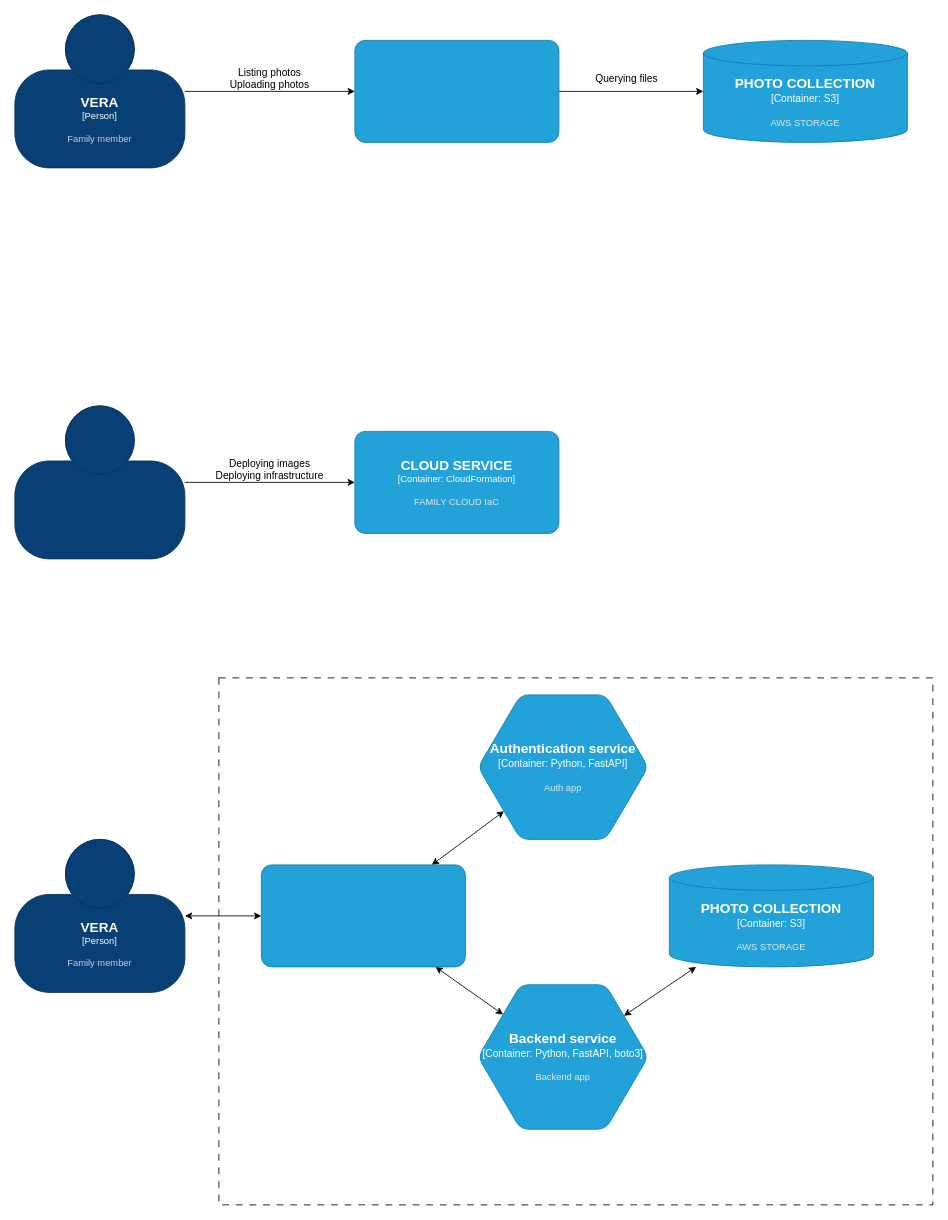
Image size: 948x1220. Some labels were removed from this diagram. The box of each missing label's shape, as (x1, y1, x2, y2) in pixels:
ALEKSANDR [DEVELOPER] Family member: (14, 405, 185, 559)
CLOUD SERVICE [Container: STREAMLIT APPLICATION] FAMILY CLOUD STORAGE: (354, 40, 559, 142)
Frontend service [Container: Streamlit] Web application: (261, 864, 465, 967)
